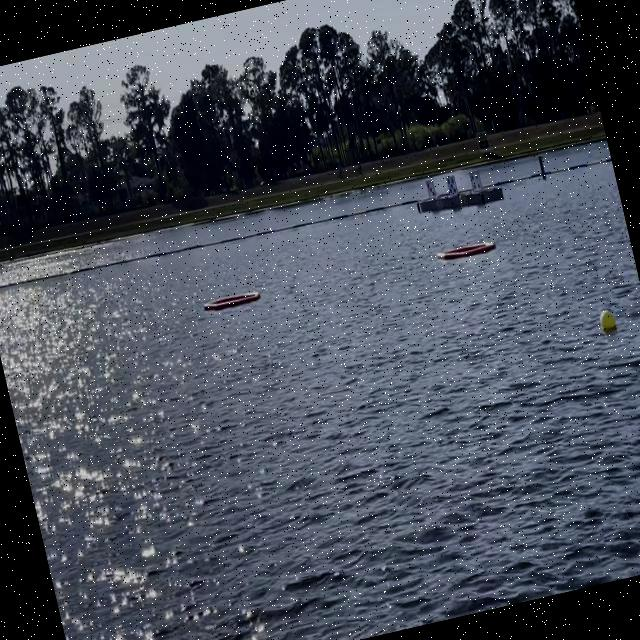buoy: (596, 306, 618, 331)
